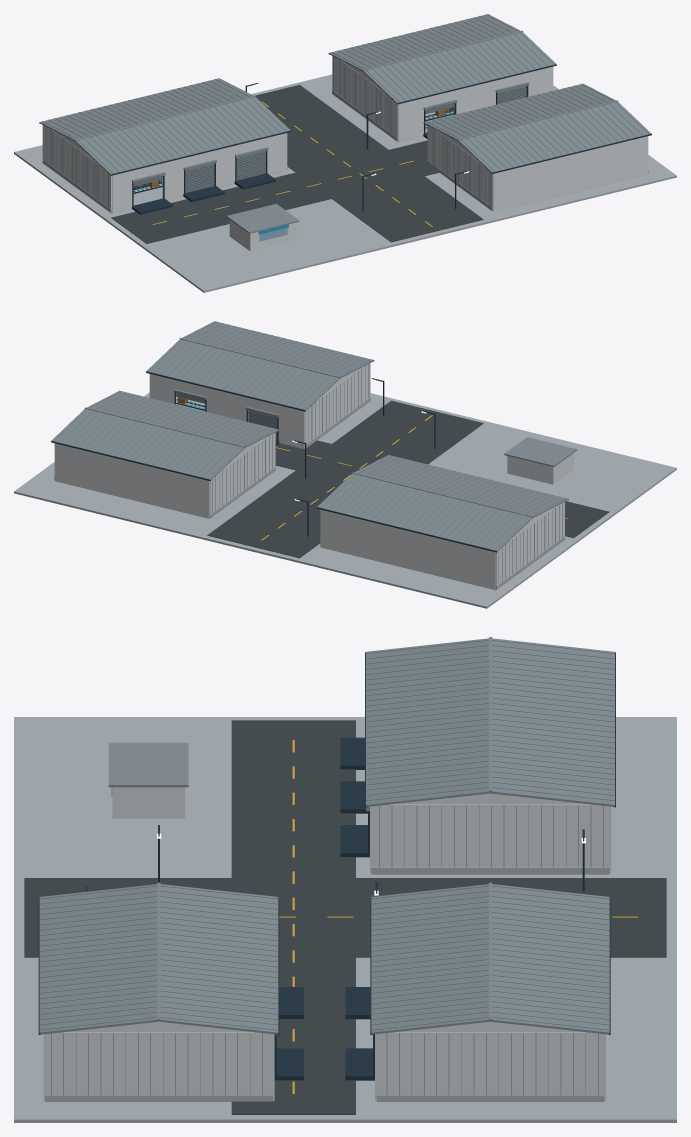
The model's file is warehouse-raw-materials.glb.
3 renders of one model, top to bottom at view 1: azimuth 30°, elevation 25°; view 2: azimuth 150°, elevation 25°; view 3: azimuth 270°, elevation 25°, orthographic. The views are drawn at different scales.
Visible parts, largest first — view 1: WMS_Logistics_Campus_Batch_39, CampusGround, RoofAssembly_A, RoofAssembly_C, RoofAssembly_B, Warehouse_A, Warehouse_C, Warehouse_B, GatehouseRoof, GatehouseBody; view 2: CampusGround, WMS_Logistics_Campus_Batch_39, RoofAssembly_A, RoofAssembly_B, RoofAssembly_C, Warehouse_A, Warehouse_B, Warehouse_C, GatehouseRoof, GatehouseBody; view 3: CampusGround, WMS_Logistics_Campus_Batch_39, RoofAssembly_A, RoofAssembly_C, RoofAssembly_B, Warehouse_A, Warehouse_B, Warehouse_C, GatehouseRoof, GatehouseBody.
Part boxes in pixels (x1=…): WMS_Logistics_Campus_Batch_39: x1=111, y1=84, x2=483, y2=243; CampusGround: x1=14, y1=74, x2=676, y2=292; RoofAssembly_A: x1=39, y1=78, x2=290, y2=175; RoofAssembly_C: x1=423, y1=83, x2=651, y2=173; RoofAssembly_B: x1=328, y1=14, x2=556, y2=104; Warehouse_A: x1=42, y1=125, x2=287, y2=214; Warehouse_C: x1=427, y1=125, x2=648, y2=211; Warehouse_B: x1=332, y1=56, x2=553, y2=142; GatehouseRoof: x1=226, y1=204, x2=299, y2=233; GatehouseBody: x1=229, y1=220, x2=296, y2=251; CampusGround: x1=14, y1=392, x2=676, y2=608; WMS_Logistics_Campus_Batch_39: x1=207, y1=400, x2=609, y2=558; RoofAssembly_A: x1=317, y1=455, x2=568, y2=552; RoofAssembly_B: x1=51, y1=390, x2=279, y2=480; RoofAssembly_C: x1=146, y1=321, x2=374, y2=411; Warehouse_A: x1=320, y1=502, x2=565, y2=590; Warehouse_B: x1=54, y1=432, x2=275, y2=518; Warehouse_C: x1=149, y1=363, x2=370, y2=448; GatehouseRoof: x1=504, y1=437, x2=576, y2=466; GatehouseBody: x1=507, y1=453, x2=574, y2=484; CampusGround: x1=14, y1=717, x2=676, y2=1122; WMS_Logistics_Campus_Batch_39: x1=24, y1=720, x2=666, y2=1114; RoofAssembly_A: x1=365, y1=637, x2=615, y2=807; RoofAssembly_C: x1=38, y1=882, x2=279, y2=1034; RoofAssembly_B: x1=370, y1=882, x2=610, y2=1034; Warehouse_A: x1=340, y1=737, x2=611, y2=874; Warehouse_B: x1=345, y1=987, x2=605, y2=1101; Warehouse_C: x1=43, y1=987, x2=303, y2=1101; GatehouseRoof: x1=108, y1=742, x2=188, y2=787; GatehouseBody: x1=112, y1=787, x2=184, y2=818.
Bounding box in the file's own units: 92 × 9.53 × 64.
